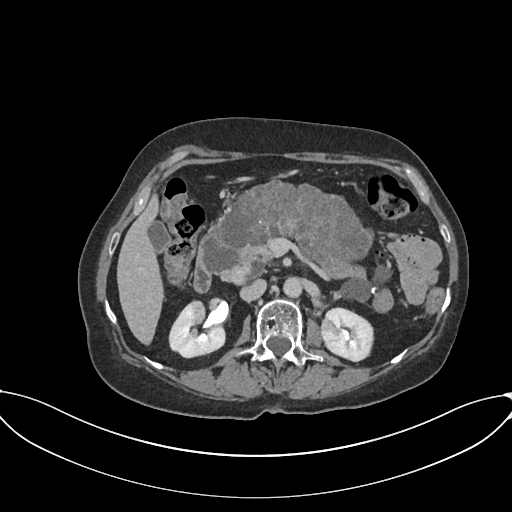Lesion: (320, 314, 341, 337)
